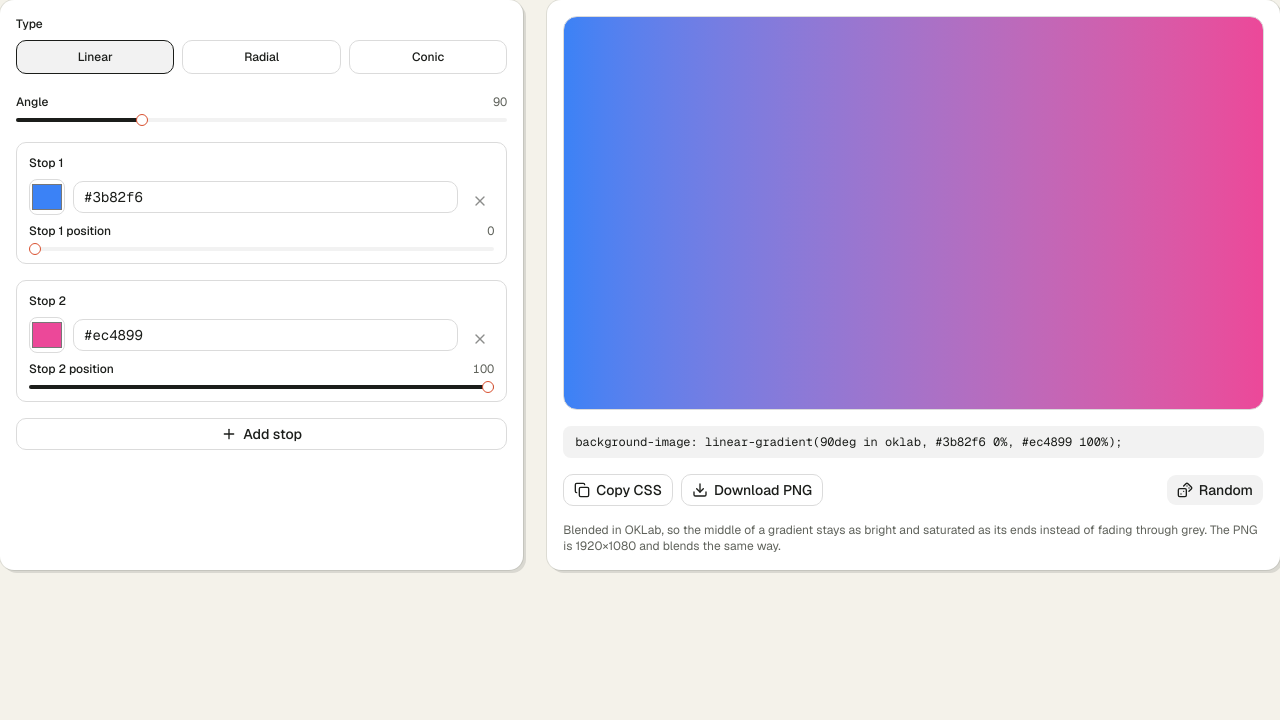
GradientGeneratorTool › uses the angle as the start of a conic gradient
Click the button "Conic".
click(428, 57)  # box x1=349 y1=40 x2=507 y2=74
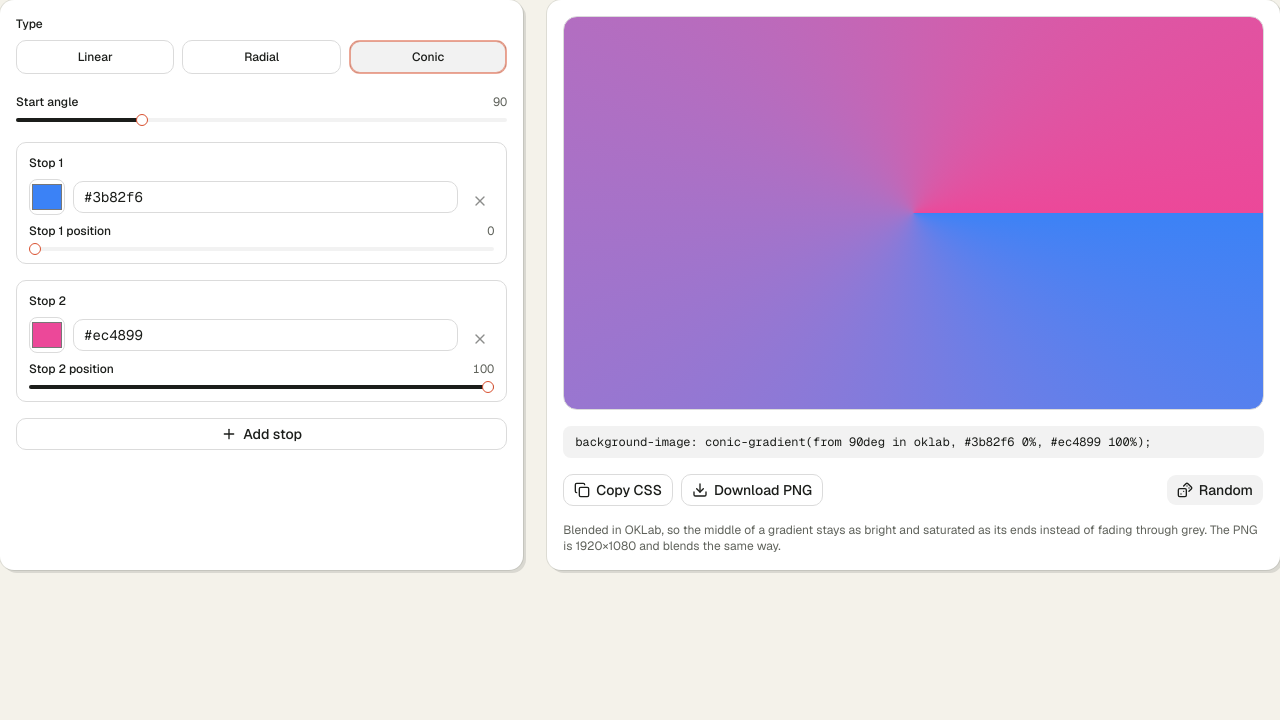
Now the text "background-image:" shows "conic-gradient(from 90deg in oklab", box x1=705 y1=434 x2=1144 y2=450
Now the text "Start angle" is shown, box x1=16 y1=94 x2=78 y2=110
